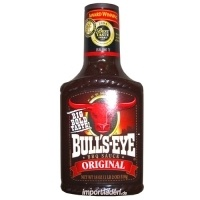grozi_75: (60, 3, 143, 196)
